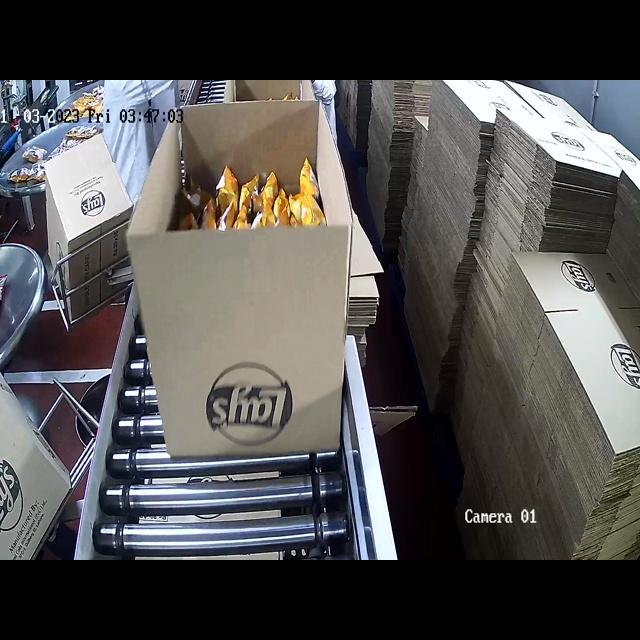cheese: (195, 177, 315, 224)
